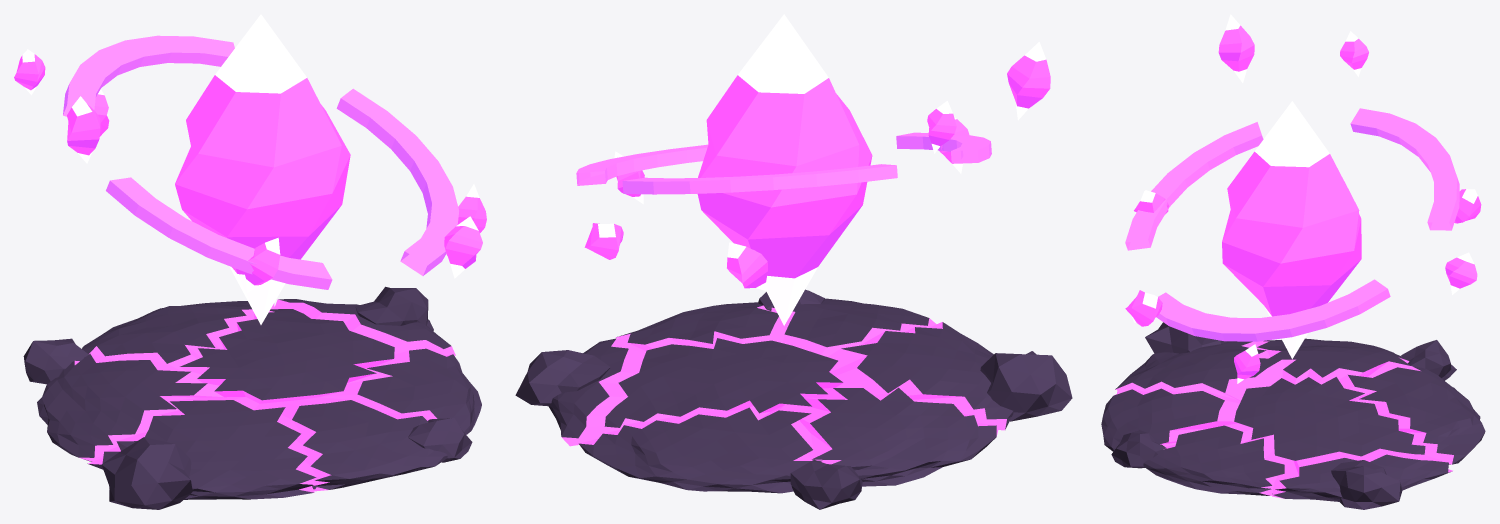
File: res_warp_crystal.glb
3 views of the same model, side by side, from view 1: azimuth 30°, elevation 25°; view 2: azimuth 150°, elevation 25°; view 3: azimuth 270°, elevation 25° (orthographic). The views are drawn at different scales.
Parts seen in each view (by area): view 1: res_warp_crystal; view 2: res_warp_crystal; view 3: res_warp_crystal.
Boxes of the visible parts, x1,y1,x2,y2 form: res_warp_crystal: [14, 14, 486, 509]; res_warp_crystal: [515, 14, 1072, 509]; res_warp_crystal: [1101, 14, 1485, 509].
Size of the model in its own units: 1.42 by 1.2 by 1.29.
